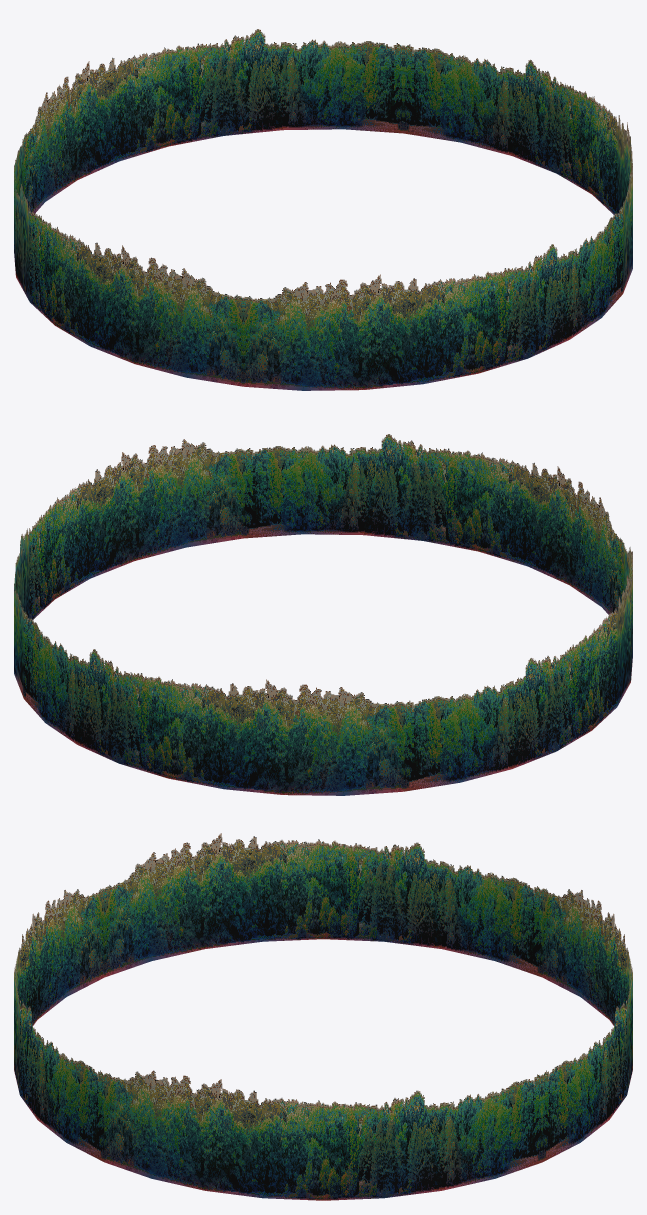
Rendered from forest_backdrop.glb.
3 renders of one model, top to bottom at view 1: azimuth 30°, elevation 25°; view 2: azimuth 150°, elevation 25°; view 3: azimuth 270°, elevation 25°, orthographic.
Parts seen in each view (by area): view 1: Circle; view 2: Circle; view 3: Circle.
Part boxes in pixels (bbox=[...]): Circle: bbox=[14, 29, 632, 390]; Circle: bbox=[14, 434, 632, 795]; Circle: bbox=[14, 833, 632, 1200].
Size of the model in its own units: 2 by 0.4101 by 2.
Materials: 1 (1 with a texture image).
